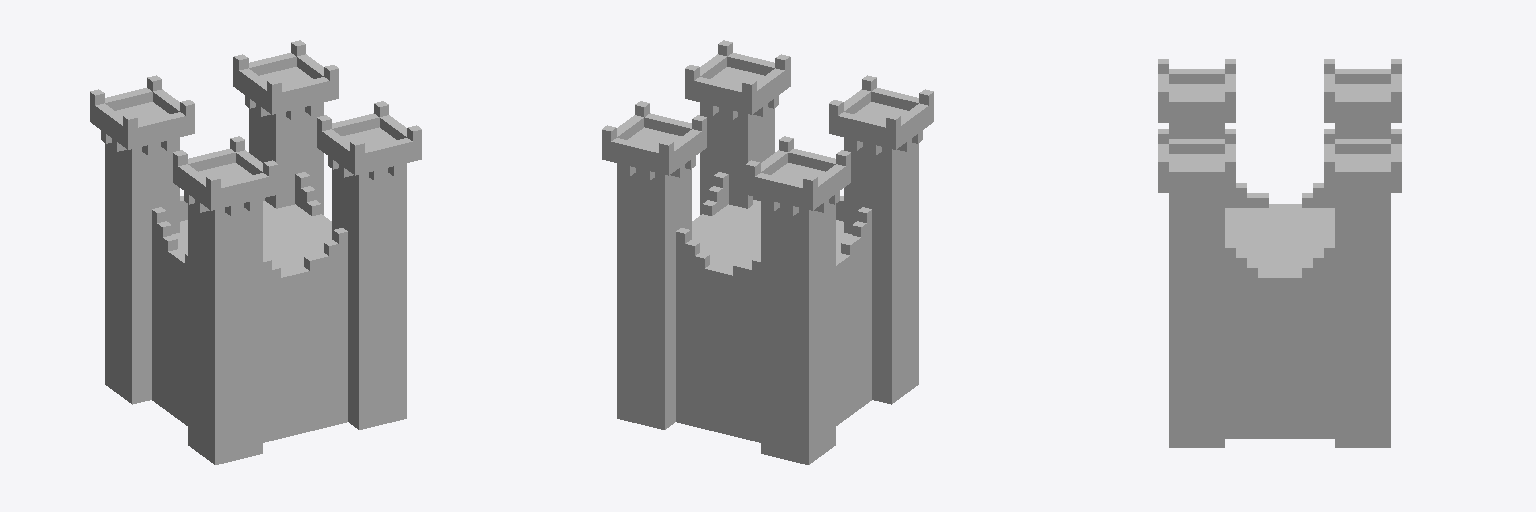
The model's file is castle.obj.
3 renders of one model, left to right at view 1: azimuth 30°, elevation 25°; view 2: azimuth 150°, elevation 25°; view 3: azimuth 270°, elevation 25°, orthographic.
Parts seen in each view (by area): view 1: object 1; view 2: object 1; view 3: object 1.
Boxes of the visible parts, x1=… form: object 1: x1=90, y1=40, x2=421, y2=464; object 1: x1=602, y1=40, x2=933, y2=464; object 1: x1=1158, y1=59, x2=1401, y2=447.
Size of the model in its own units: 2.2 by 2.9 by 2.2.